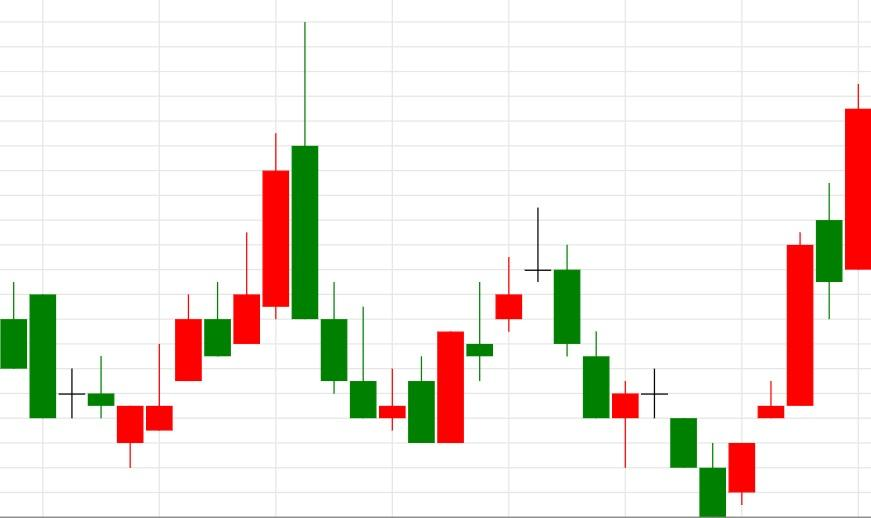bullish_engulfing_rise: (290, 22, 465, 444)
three_black_crows_fall: (116, 22, 377, 468)
